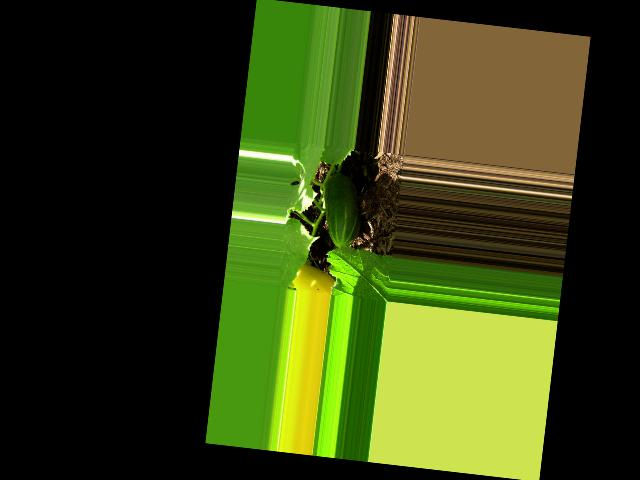cucumber: (318, 171, 367, 249)
